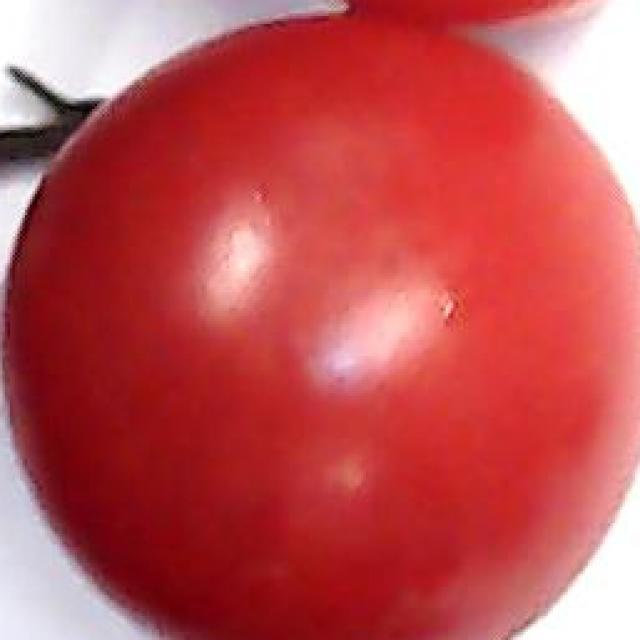Healthy: (4, 26, 640, 640)
